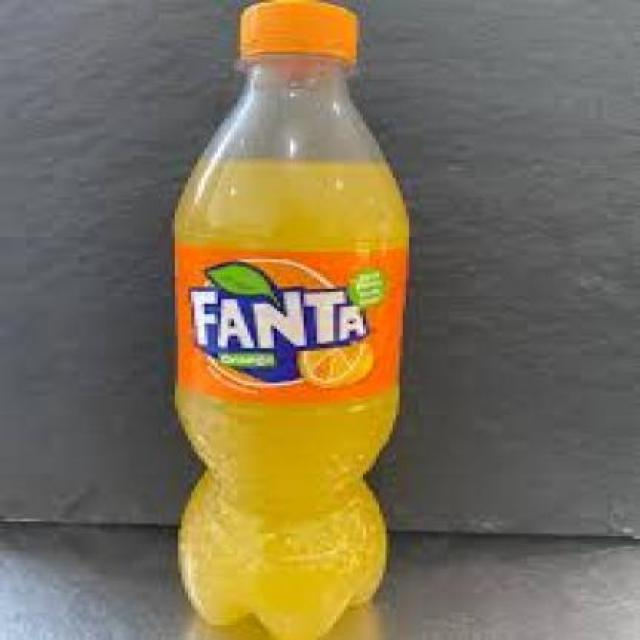high: (175, 0, 407, 639)
